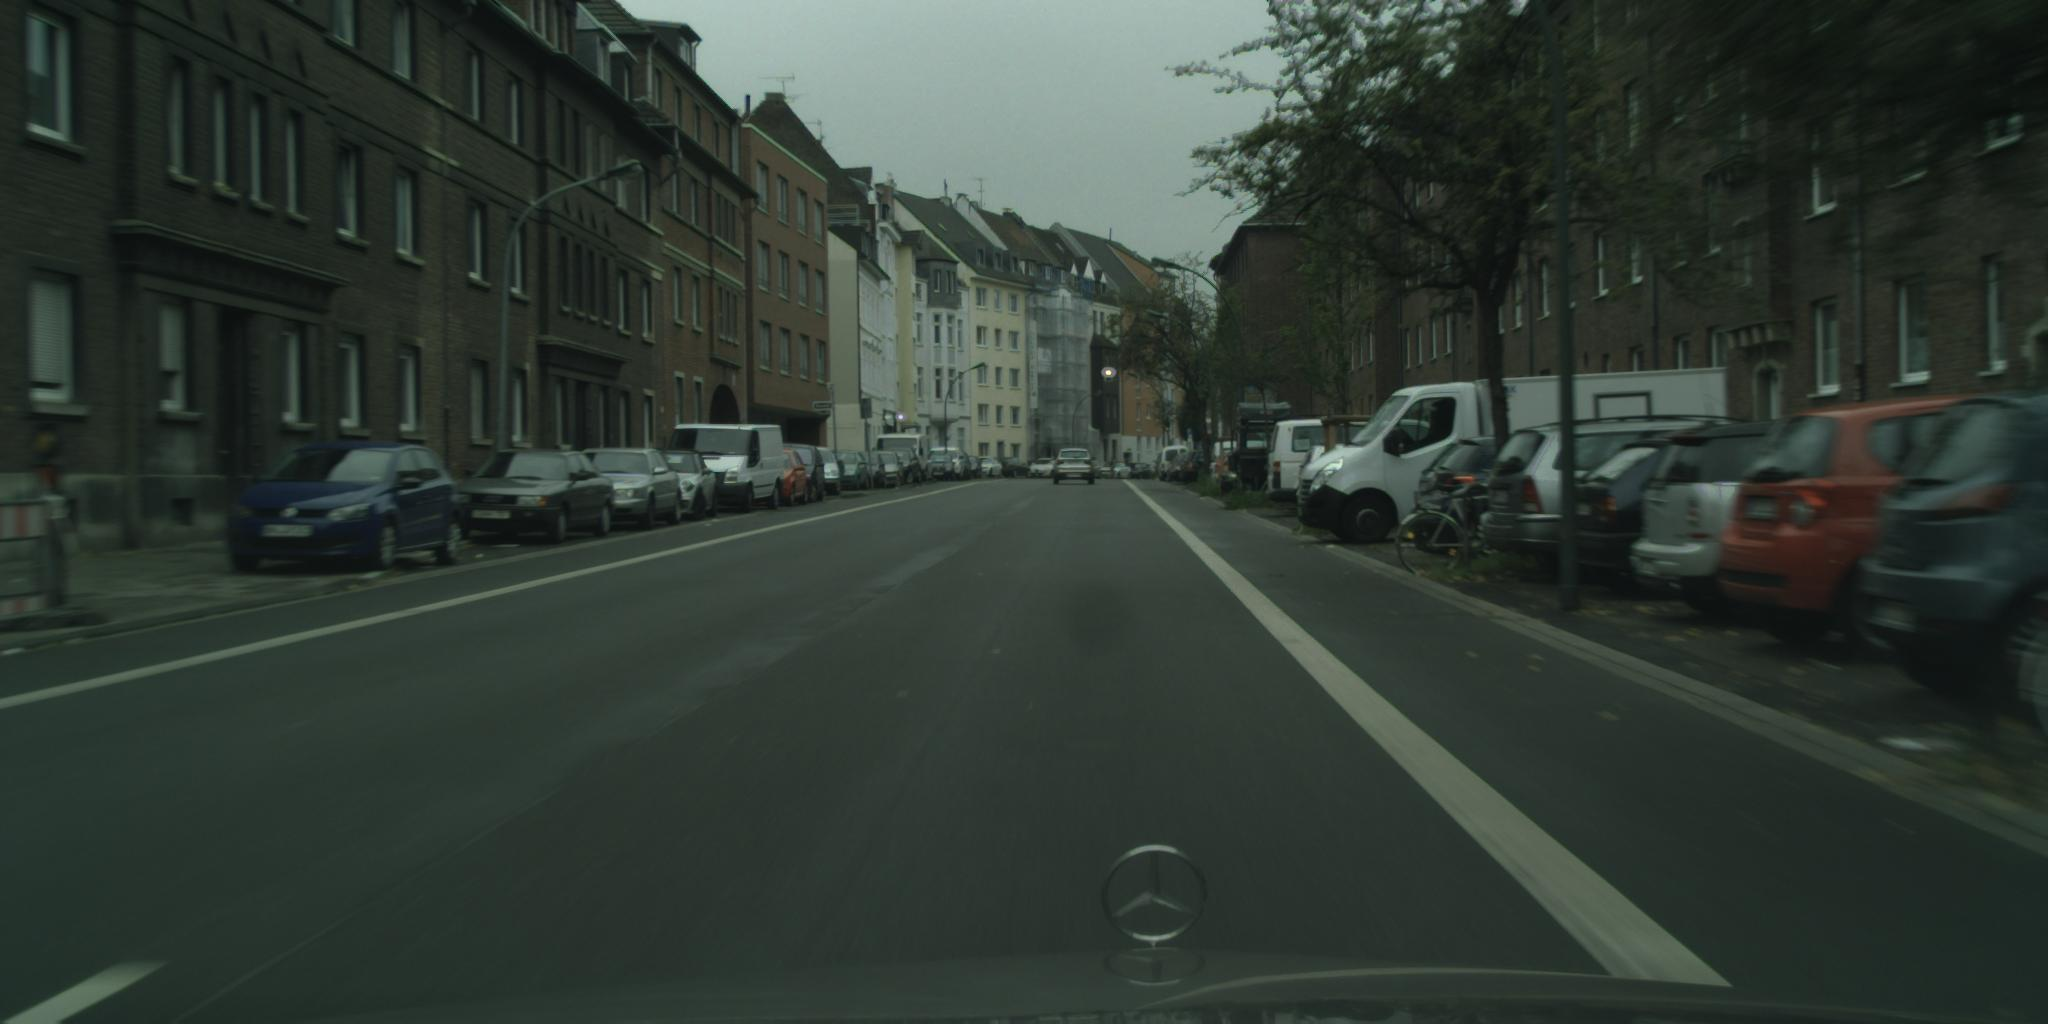bicycle: (1395, 470, 1511, 579)
car: (1297, 367, 1731, 546), (1718, 394, 1991, 666), (1856, 388, 2048, 738), (1479, 415, 1753, 575), (230, 441, 466, 573), (1630, 419, 1782, 620), (1569, 440, 1681, 596), (455, 449, 615, 545), (1415, 434, 1537, 534), (1267, 418, 1396, 508), (669, 424, 785, 515), (573, 449, 683, 532), (654, 451, 720, 522), (876, 434, 930, 481), (1301, 445, 1351, 495), (1054, 449, 1098, 486), (998, 458, 1031, 479), (1028, 458, 1062, 478)
